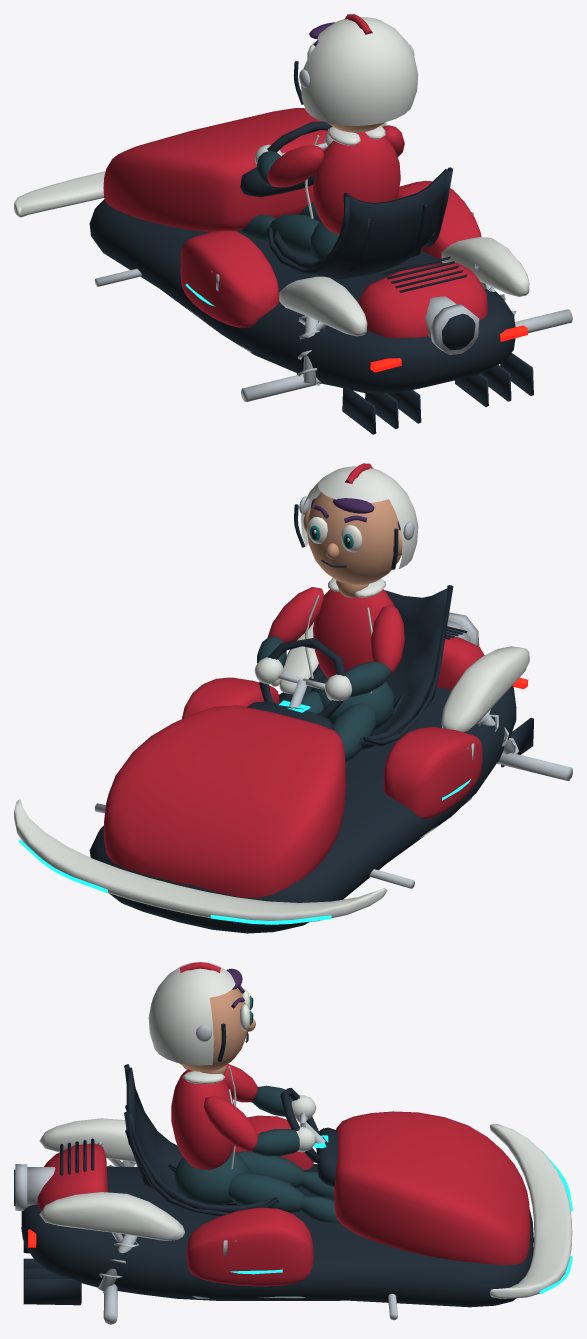
The model's file is kestrel-kart-v1.glb.
The picture shows the model from 3 angles, top to bottom: view 1: azimuth 30°, elevation 25°; view 2: azimuth 150°, elevation 25°; view 3: azimuth 270°, elevation 25°; orthographic projection. The views are drawn at different scales.
Parts seen in each view (by area): view 1: ContinuousLowerHull, SculptedProw, SweptFrontApron, TailoredTorso, PodVent-1_0, SeatedHip, UpperArm-1, TailLightHousing-1; view 2: SculptedProw, ContinuousLowerHull, SweptFrontApron, Neck, TailoredTorso, PodVent-1_0, SeatedHip, UpperArm1, UpperArm-1, InstrumentScreen, Forearm-1, Eyebrow-1 (+3 smaller); view 3: SculptedProw, ContinuousLowerHull, SweptFrontApron, SeatedHip, TailoredTorso, PodVent-1_0, Neck, UpperArm1, Forearm1, UpperArm-1, Forearm-1, InstrumentScreen (+1 smaller).
Boxes of the visible parts, x1,y1,x2,y2 form: ContinuousLowerHull: [89, 61, 533, 434]; SculptedProw: [103, 14, 488, 338]; SweptFrontApron: [14, 17, 529, 336]; TailoredTorso: [313, 132, 400, 234]; PodVent-1_0: [94, 44, 572, 401]; SeatedHip: [241, 201, 339, 261]; UpperArm-1: [267, 145, 324, 187]; TailLightHousing-1: [370, 325, 527, 372]; SculptedProw: [103, 463, 484, 897]; ContinuousLowerHull: [89, 504, 533, 933]; SweptFrontApron: [14, 466, 529, 922]; Neck: [303, 492, 402, 598]; TailoredTorso: [313, 589, 394, 678]; PodVent-1_0: [95, 496, 572, 888]; SeatedHip: [301, 675, 394, 762]; UpperArm1: [267, 587, 324, 642]; UpperArm-1: [370, 605, 404, 674]; InstrumentScreen: [18, 700, 470, 924]; Forearm-1: [345, 661, 391, 696]; Eyebrow-1: [310, 498, 400, 530]; SculptedProw: [37, 962, 530, 1286]; ContinuousLowerHull: [14, 998, 533, 1307]; SweptFrontApron: [39, 962, 572, 1298]; SeatedHip: [174, 1151, 340, 1222]; TailoredTorso: [171, 1069, 233, 1169]; PodVent-1_0: [15, 1025, 397, 1324]; Neck: [179, 988, 255, 1074]; UpperArm1: [203, 1095, 257, 1151]; Forearm1: [252, 1129, 299, 1156]; UpperArm-1: [223, 1064, 257, 1102]; Forearm-1: [252, 1085, 292, 1116]; InstrumentScreen: [229, 1135, 572, 1293].
Bounding box in the file's own units: 1.63 × 1.4 × 2.31.
